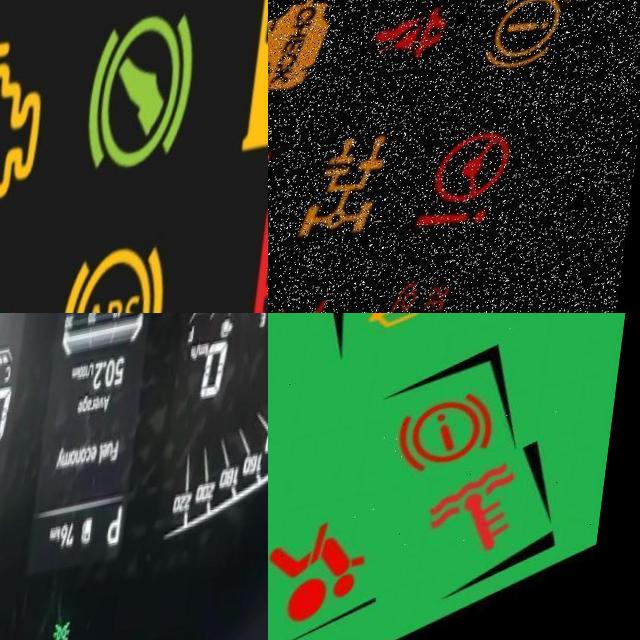Electronic Power Steering: (421, 136, 544, 264)
